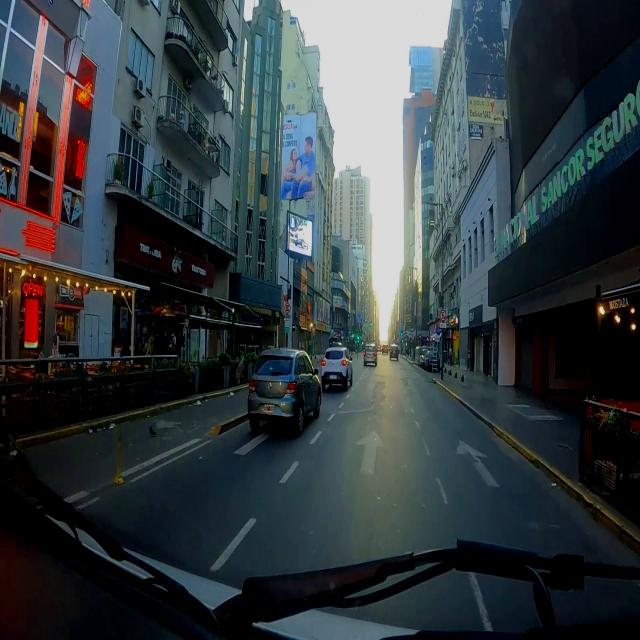car: (248, 348, 321, 436), (320, 347, 352, 390), (364, 344, 377, 366), (389, 344, 399, 360)
